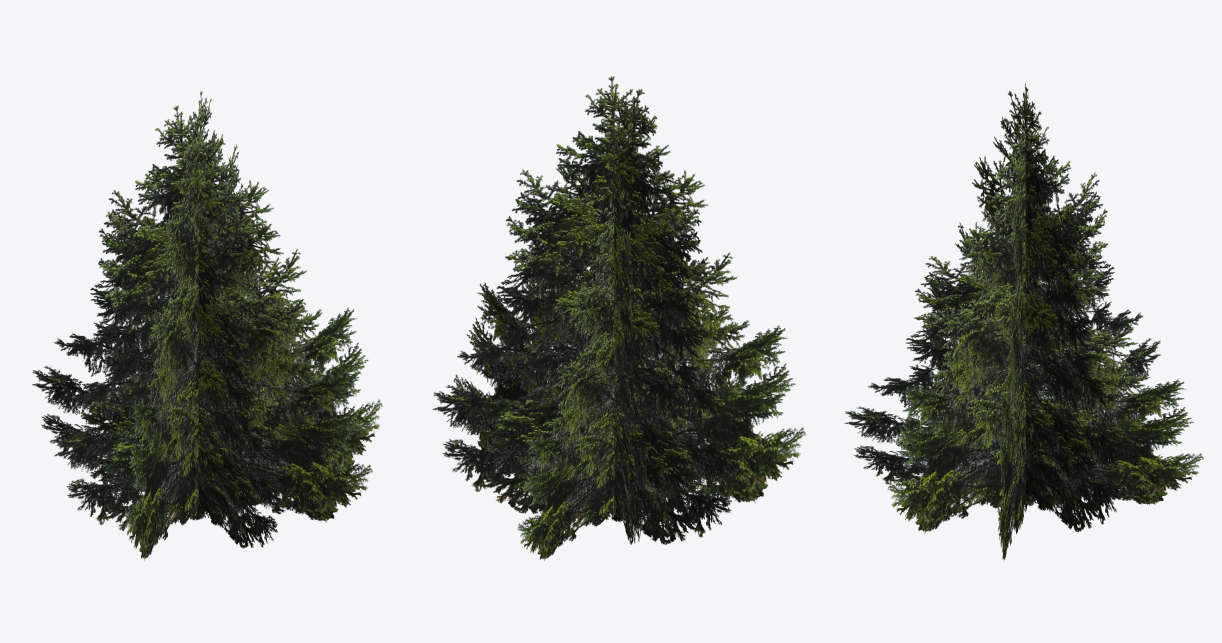
The model's file is trees_and_bush_pack_pine1.glb.
The picture shows the model from 3 angles, left to right: view 1: azimuth 30°, elevation 25°; view 2: azimuth 150°, elevation 25°; view 3: azimuth 270°, elevation 25°; orthographic projection. The views are drawn at different scales.
Visible parts, largest first — view 1: pine1; view 2: pine1; view 3: pine1.
Boxes of the visible parts, left/top/right/bottom form: pine1: left=32, top=91, right=382, bottom=560; pine1: left=432, top=76, right=805, bottom=560; pine1: left=844, top=83, right=1203, bottom=559.
Size of the model in its own units: 10.23 by 13.93 by 9.21.
1 material, 1 textured.
